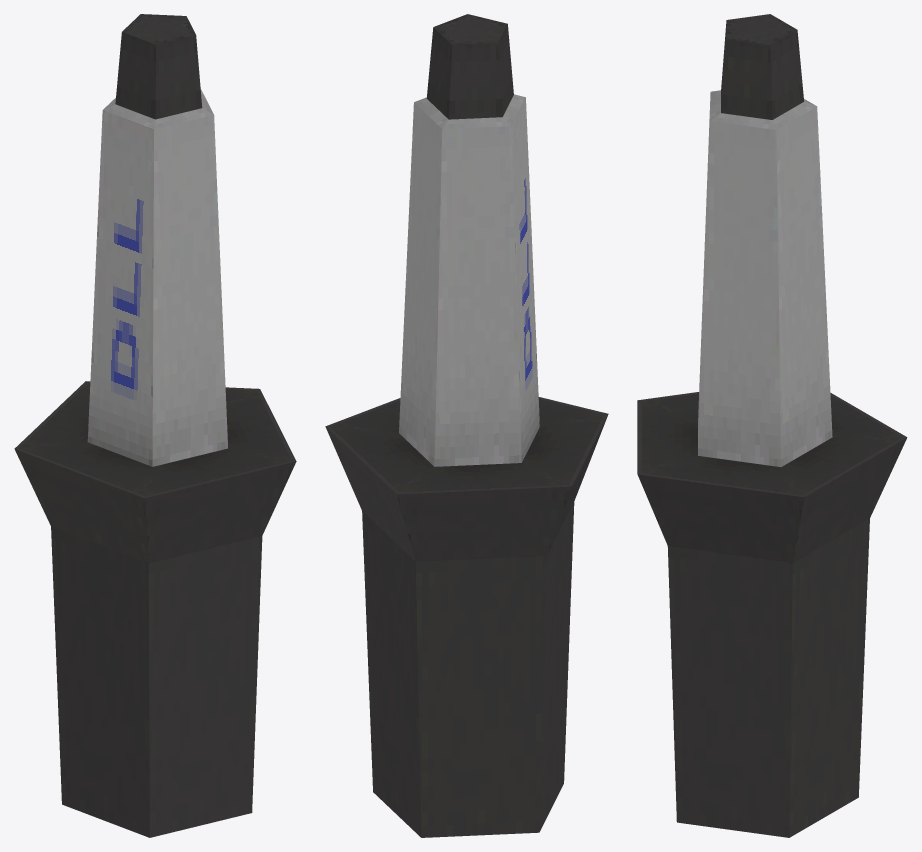
The model's file is sparkplug.glb.
The picture shows the model from 3 angles, left to right: view 1: azimuth 30°, elevation 25°; view 2: azimuth 150°, elevation 25°; view 3: azimuth 270°, elevation 25°; orthographic projection.
Parts seen in each view (by area): view 1: Cylinder; view 2: Cylinder; view 3: Cylinder.
Part boxes in pixels (x1,y1,x2,y2): Cylinder: (14,14,296,837); Cylinder: (325,14,608,837); Cylinder: (637,14,907,837).
Bounding box in the file's own units: 0.0534 × 0.1592 × 0.0507.
Materials: 2 (2 with a texture image).
